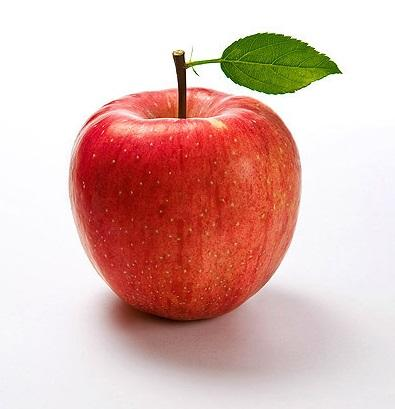apples: (70, 33, 341, 324)
